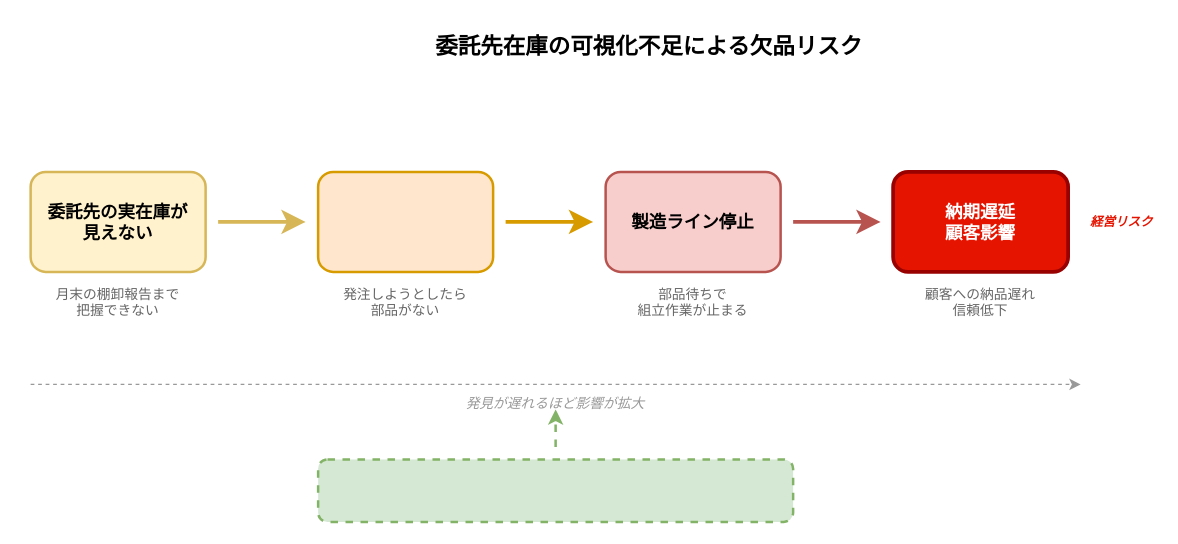
Image size: 1178x544. Some labels were removed from this diagram. Here are the shapes that lost their labels. From the top down, the box of each, then its label:
(316, 170, 494, 272): 欠品発生
(316, 458, 794, 522): リアルタイム在庫可視化により 早期発見・早期対処が可能に
